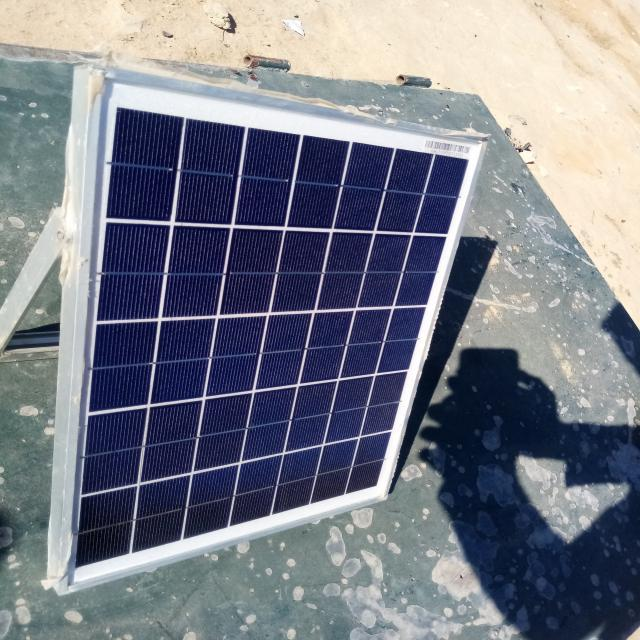no faulty: (62, 69, 488, 594)
